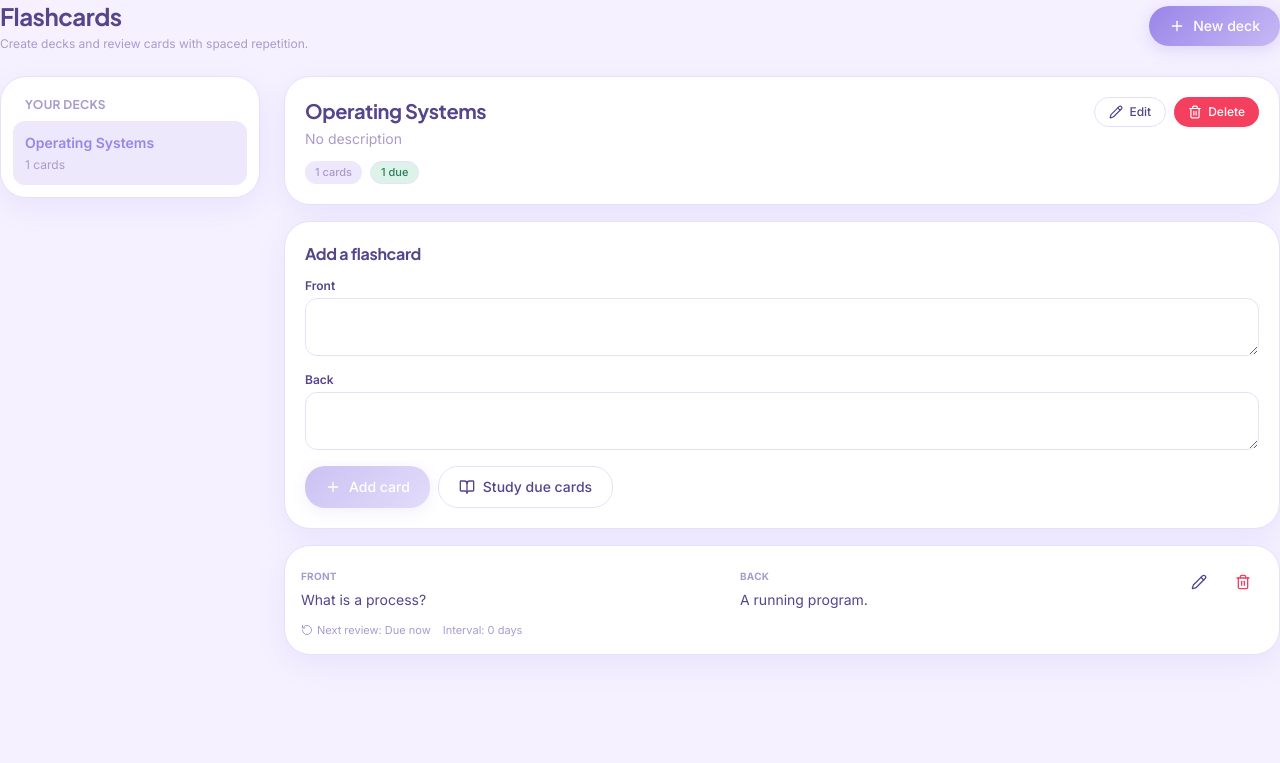
Test case: FlashcardsPage › creates a card through the API and adds the returned card to the deck
The width and height of the screenshot is (1280, 763).
Check: the text "What is a process?" is shown, box [301,590,426,608]
Step 1. Type "What is a thread?" into the text box labelled "Front" → (782, 326), box [305,298,1259,356]
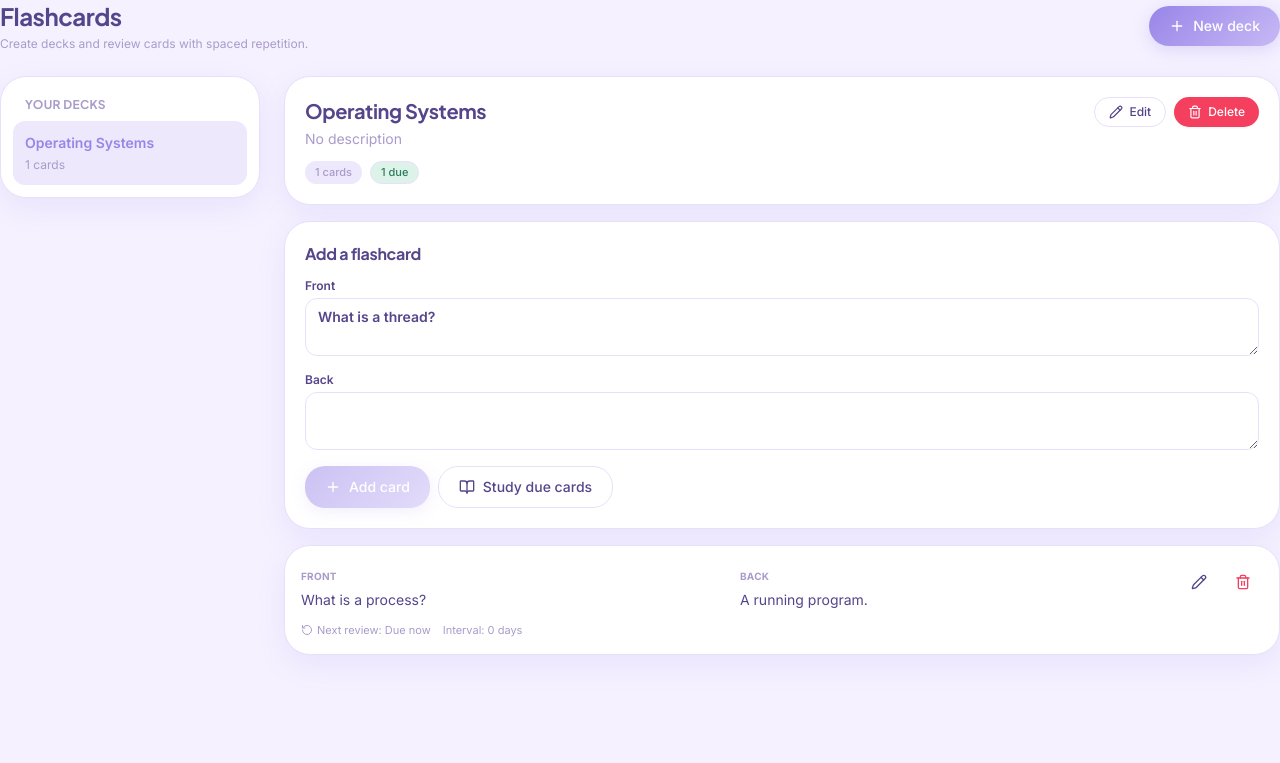
Step 2. Type "A unit of execution." into the text box labelled "Back" → (782, 420), box [305,392,1259,450]
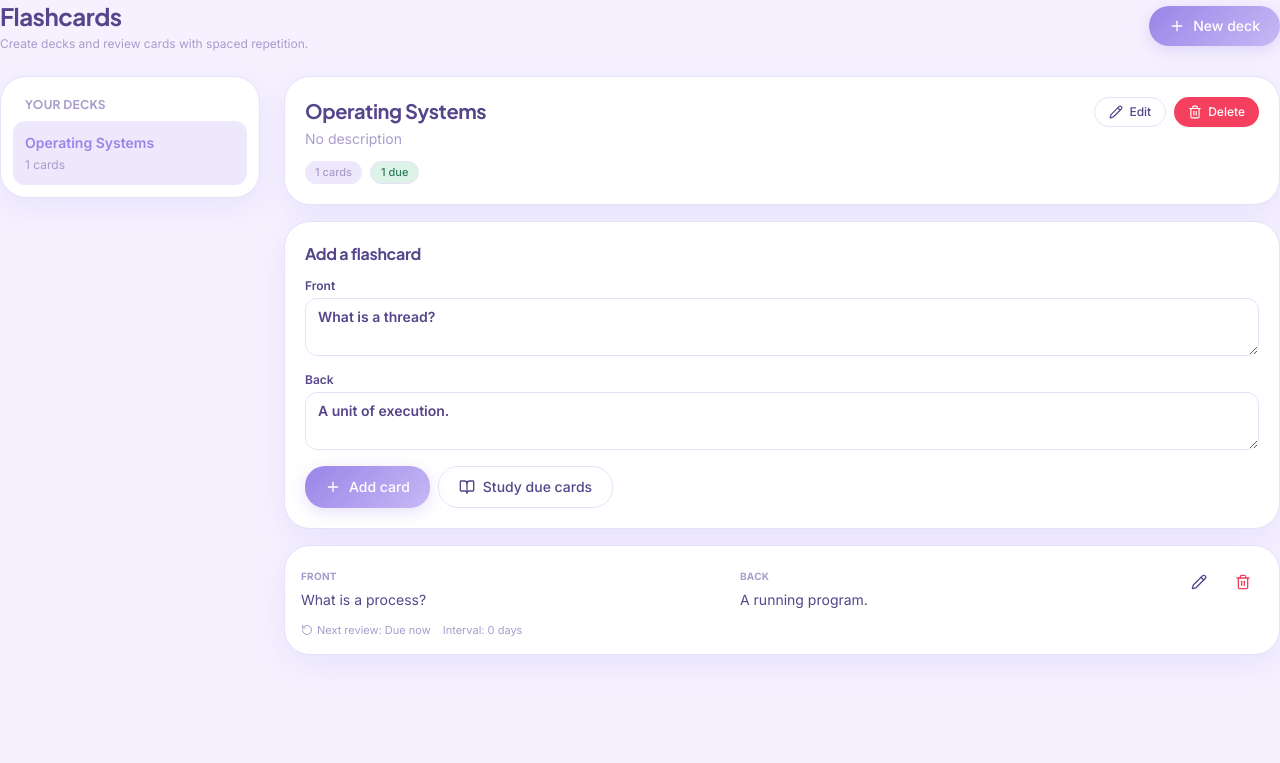
Step 3. Click the button "Add card" → (367, 486), box [305,466,430,508]
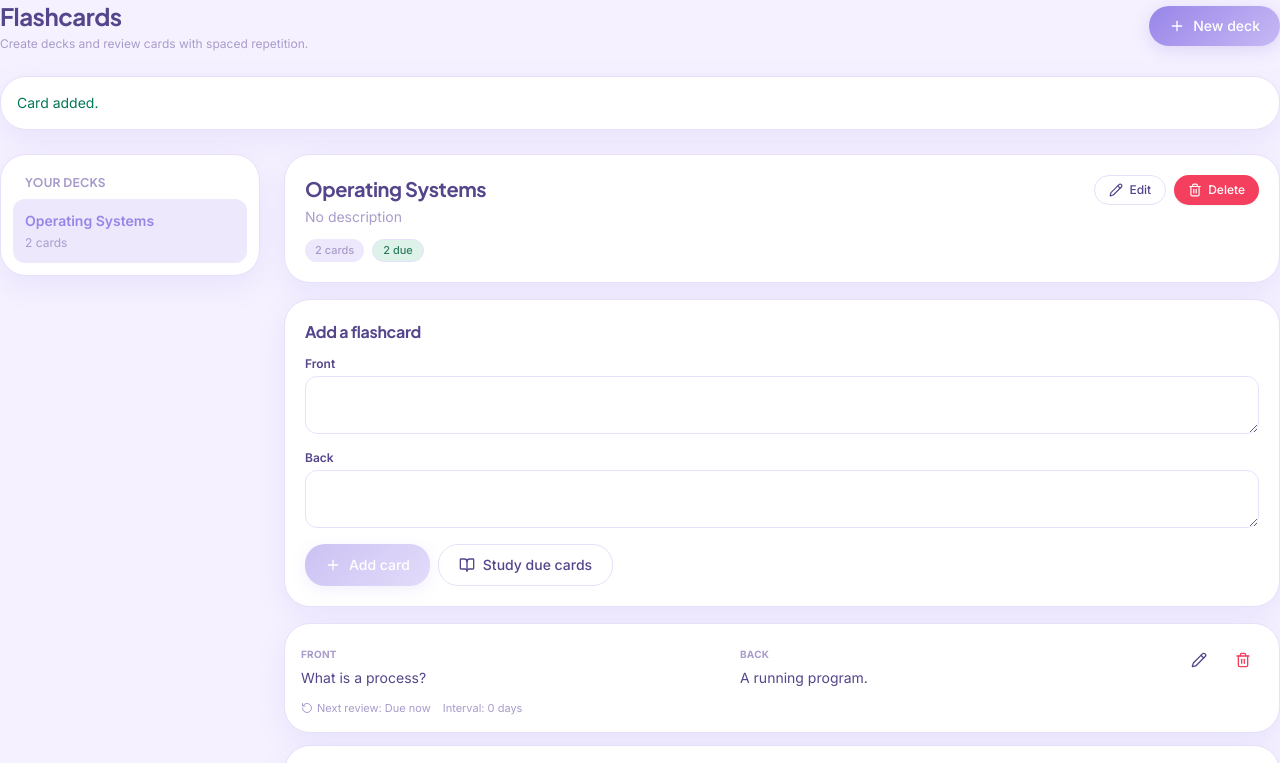
Check: the text "Card added." is shown, box [0,76,1279,130]
